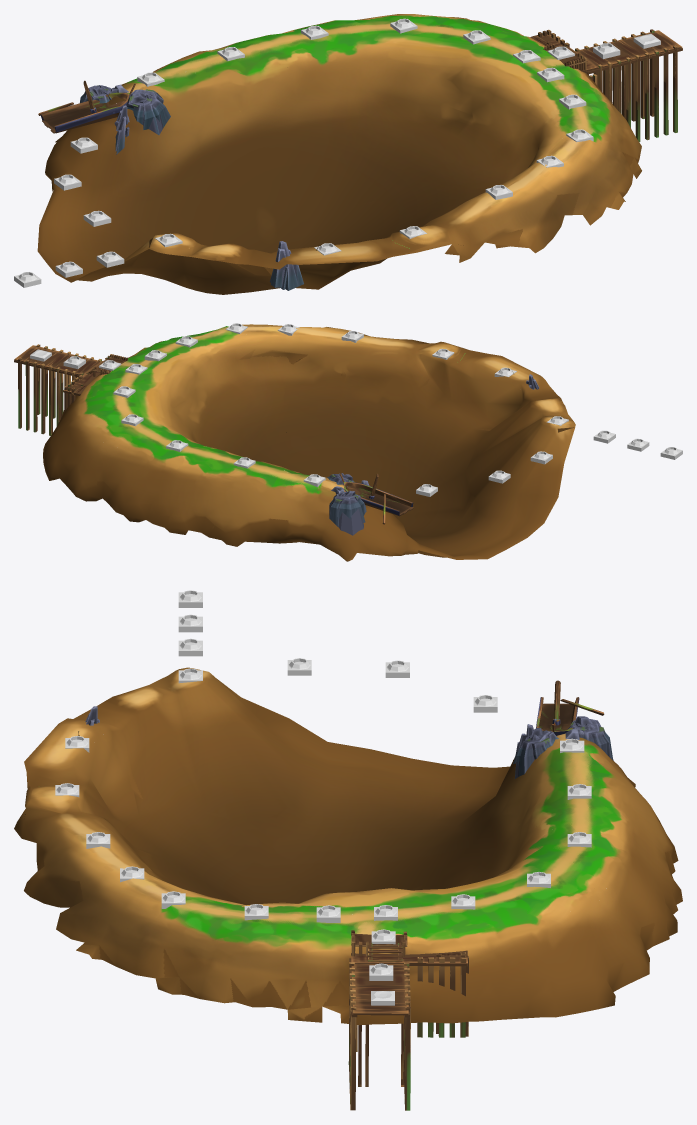
File: NEW_island_early_1_v2_Mesh.fbx
3 views of the same model, one above another, from view 1: azimuth 30°, elevation 25°; view 2: azimuth 150°, elevation 25°; view 3: azimuth 270°, elevation 25° (orthographic). The views are drawn at different scales.
Visible parts, largest first — view 1: Sphere, Cube.001, Rock1, Cube.005, Rock2; view 2: Sphere, Cube.001, Rock1, Cube.005; view 3: Sphere, Cube.001, Rock1, Cube.005.
Part boxes in pixels (x1,y1,x2,y2): Sphere: (37, 14, 641, 294); Cube.001: (530, 29, 682, 141); Rock1: (80, 84, 170, 154); Cube.005: (38, 80, 135, 133); Rock2: (269, 241, 303, 290); Sphere: (43, 324, 575, 561); Cube.001: (14, 344, 127, 435); Rock1: (327, 473, 369, 535); Cube.005: (339, 473, 413, 524); Sphere: (14, 667, 682, 1025); Cube.001: (348, 930, 468, 1110); Rock1: (513, 716, 613, 778); Cube.005: (536, 680, 604, 735).
Bounding box in the file's own units: 8395 × 1566 × 5556.
